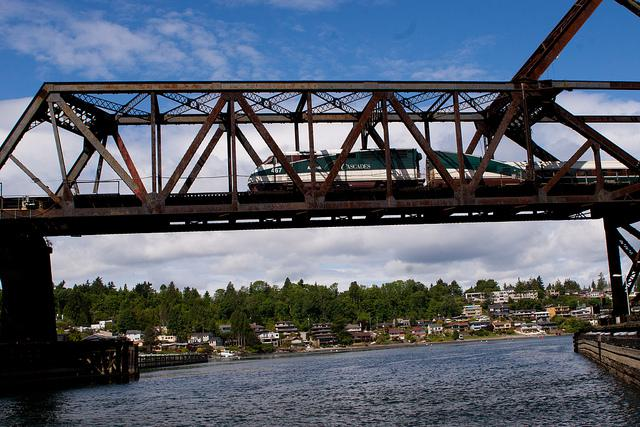Train: (248, 149, 640, 193)
